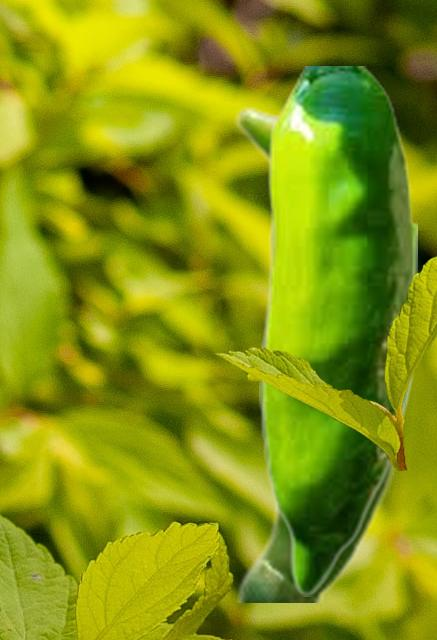green_chili: (232, 104, 414, 601), (259, 66, 416, 595)
